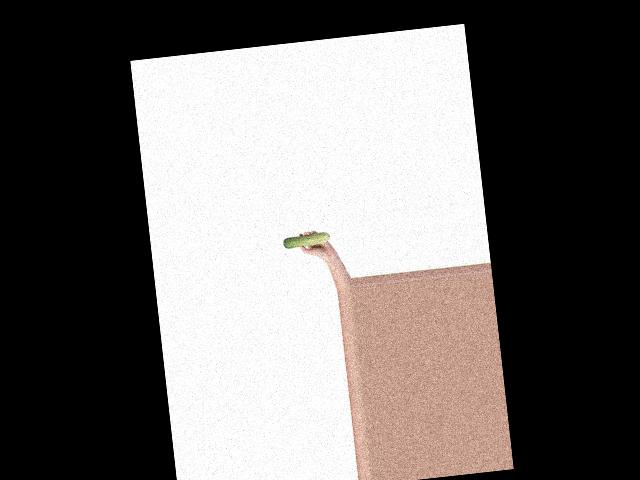cucumber: (282, 232, 331, 250)
